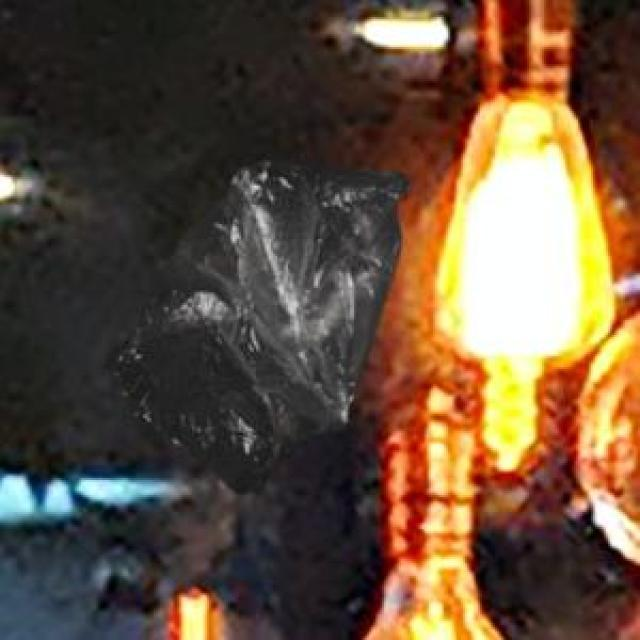Vinyl: (116, 161, 401, 468)
